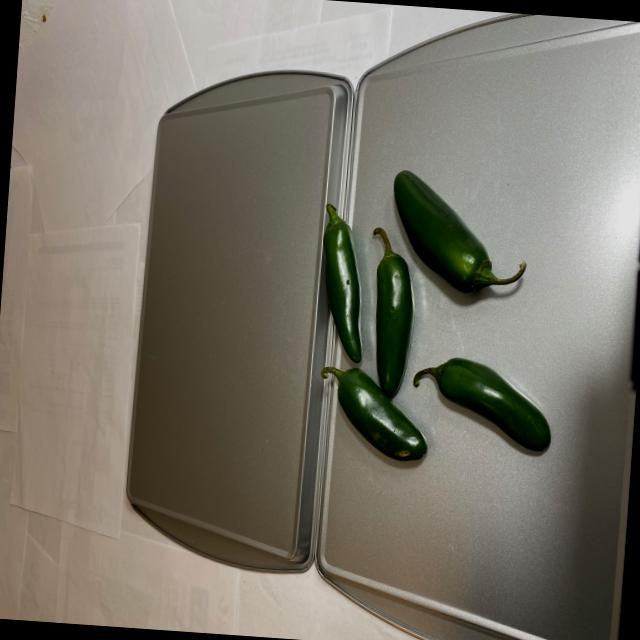chilli: (296, 158, 574, 485)
